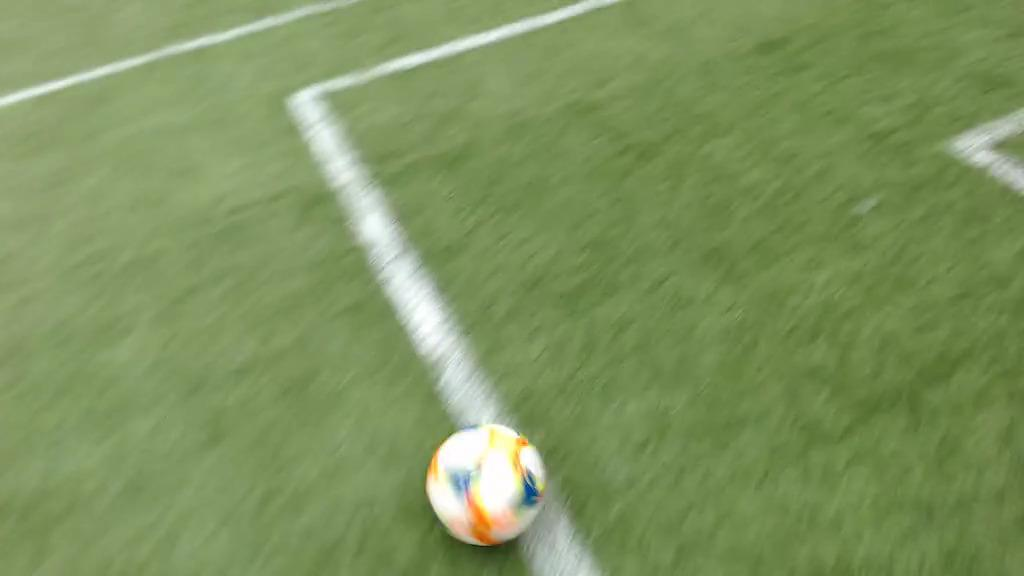ball: (427, 421, 545, 545)
